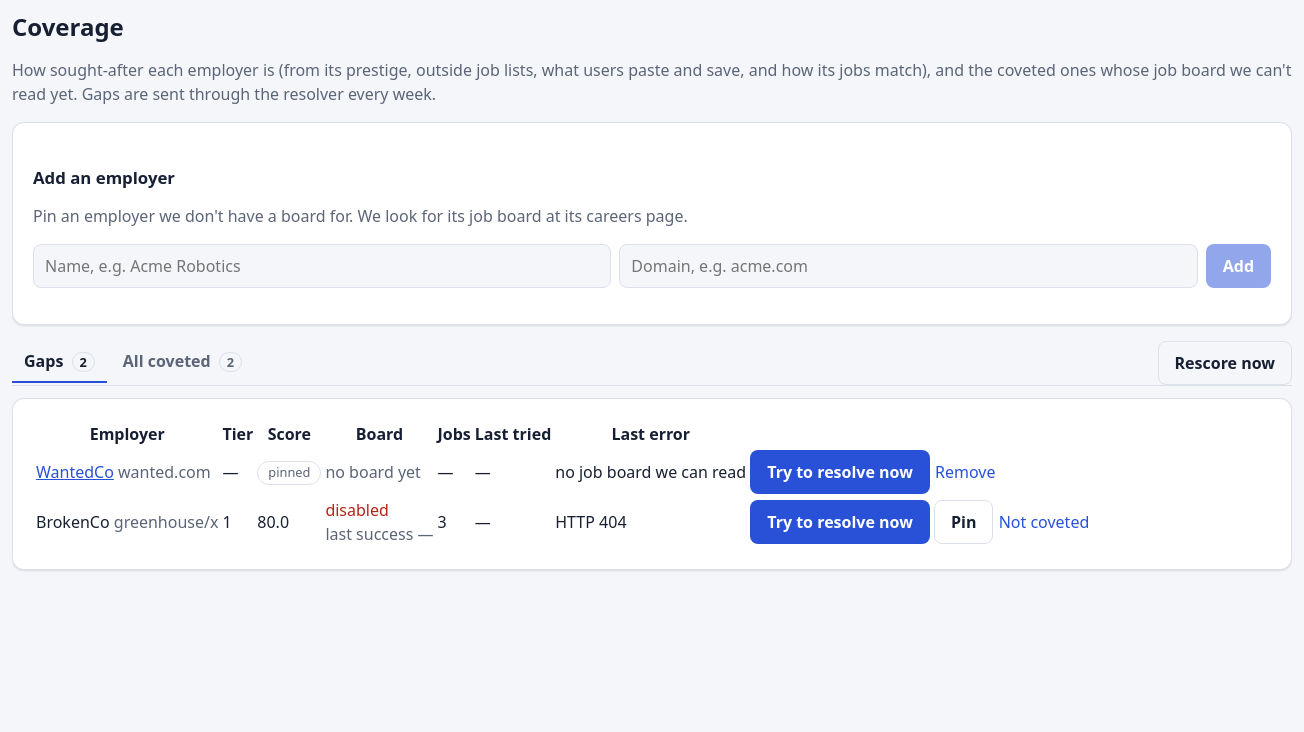
Scenario: admin coverage › shows gaps first, then everything coveted, and never links a script URL
The width and height of the screenshot is (1304, 732).
Expected: the text "BrokenCo" is shown, x1=36 y1=511 x2=110 y2=533
Expected: the link "WantedCo" is shown, x1=36 y1=461 x2=114 y2=483
Click the button "All coveted 2" at point(182, 362), box x1=111 y1=341 x2=254 y2=383
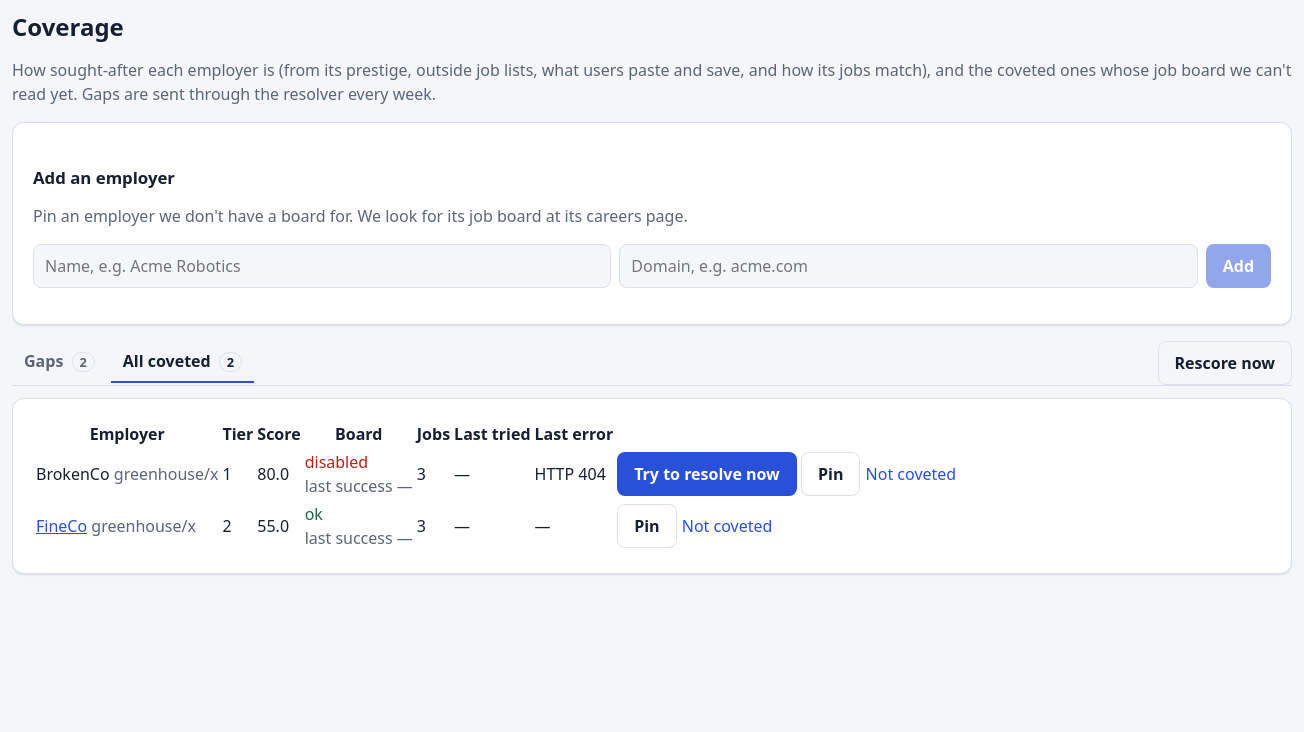
Now the link "FineCo" is shown, box x1=36 y1=515 x2=87 y2=537
Now the link "WantedCo" is gone
